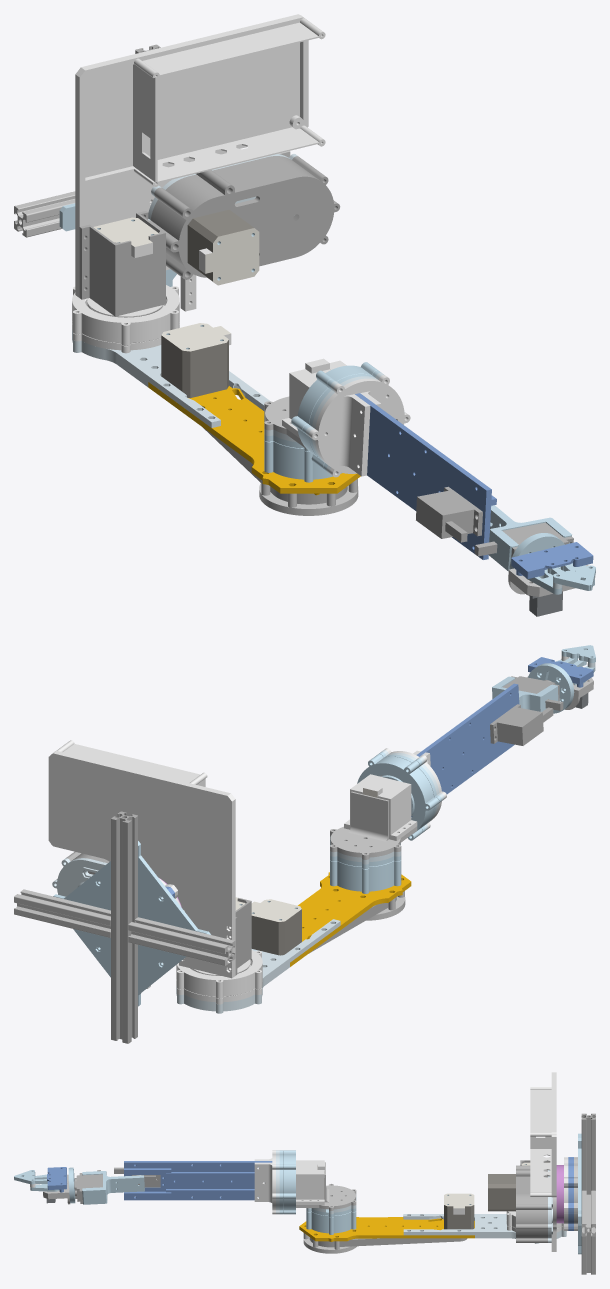
The model's file is main-assembly.glb.
3 renders of one model, top to bottom at view 1: azimuth 30°, elevation 25°; view 2: azimuth 150°, elevation 25°; view 3: azimuth 270°, elevation 25°, orthographic. The views are drawn at different scales.
Parts seen in each view (by area): view 1: J1 Flange, Pulley Casing, Nema 17HS2401 (×2), Wrist Link, J2 Stepper Gripper, Wrist Link Holder, Arm Link (To J3), Housing (output) (×2), MG996R (×2), Arm Link (From J2), Housing (output, fit to outer ring 6906zz), Gear Gripper Holder (+7 smaller); view 2: J1 Flange, Aluminum 2020 20 cm, Aluminum 2020 11 cm (×2), Base Plate, Wrist Link, Housing (output) (×2), Arm Link (To J3), Diametric Holder & J4 Stepper Gripper, Nema 17HS2401, MG996R (×2), Arm Link (From J2), J4 Stepper Gripper (+6 smaller); view 3: Wrist Link, J1 Flange, Arm Link (To J3), Nema 17HS2401 (×2), Pulley Casing, Aluminum 2020 20 cm, Arm Link (From J2), J4 Stepper Gripper, Only 1 part, Wrist Link Holder, Housing (output, fit to outer ring 6906zz), 480mm Timing Belt (+11 smaller).
Boxes of the visible parts, bbox=[...] form: J1 Flange: bbox=[75, 14, 325, 311]; Pulley Casing: bbox=[149, 156, 340, 279]; Nema 17HS2401 (×2): bbox=[161, 209, 259, 398]; Wrist Link: bbox=[355, 393, 496, 559]; J2 Stepper Gripper: bbox=[79, 211, 165, 316]; Wrist Link Holder: bbox=[309, 375, 410, 477]; Arm Link (To J3): bbox=[148, 382, 360, 495]; Housing (output) (×2): bbox=[72, 285, 378, 468]; MG996R (×2): bbox=[416, 486, 573, 559]; Arm Link (From J2): bbox=[72, 329, 270, 427]; Housing (output, fit to outer ring 6906zz): bbox=[264, 421, 341, 482]; Gear Gripper Holder: bbox=[511, 542, 593, 578]; J1 Flange: bbox=[48, 740, 235, 988]; Aluminum 2020 20 cm: bbox=[111, 811, 137, 1043]; Aluminum 2020 11 cm (×2): bbox=[14, 889, 235, 965]; Base Plate: bbox=[53, 841, 210, 1006]; Wrist Link: bbox=[411, 683, 519, 816]; Housing (output) (×2): bbox=[176, 754, 439, 998]; Arm Link (To J3): bbox=[290, 872, 411, 966]; Diametric Holder & J4 Stepper Gripper: bbox=[330, 791, 417, 859]; Nema 17HS2401: bbox=[251, 899, 301, 955]; MG996R (×2): bbox=[490, 676, 563, 745]; Arm Link (From J2): bbox=[176, 919, 340, 1013]; J4 Stepper Gripper: bbox=[344, 774, 417, 840]; Wrist Link: bbox=[124, 1161, 272, 1200]; J1 Flange: bbox=[530, 1072, 556, 1251]; Arm Link (To J3): bbox=[299, 1217, 474, 1241]; Nema 17HS2401 (×2): bbox=[444, 1174, 515, 1229]; Pulley Casing: bbox=[516, 1165, 547, 1242]; Aluminum 2020 20 cm: bbox=[581, 1113, 595, 1274]; Arm Link (From J2): bbox=[403, 1214, 566, 1243]; J4 Stepper Gripper: bbox=[296, 1160, 324, 1204]; Only 1 part: bbox=[82, 1171, 144, 1204]; Wrist Link Holder: bbox=[254, 1150, 275, 1214]; Housing (output, fit to outer ring 6906zz): bbox=[306, 1211, 356, 1234]; 480mm Timing Belt: bbox=[309, 1237, 467, 1247].
Size of the model in its own units: 0.24 by 0.266 by 0.8157.
